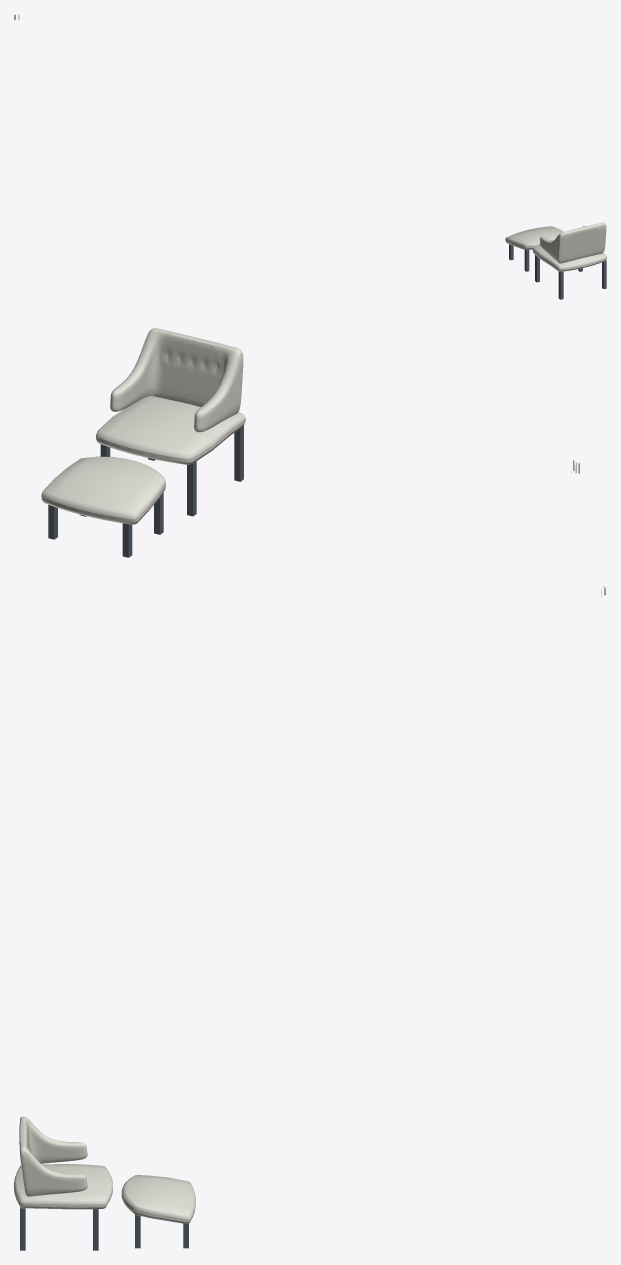
File: greenChair.glb
3 views of the same model, one above another, from view 1: azimuth 30°, elevation 25°; view 2: azimuth 150°, elevation 25°; view 3: azimuth 270°, elevation 25° (orthographic). The views are drawn at different scales.
Parts seen in each view (by area): view 1: Mesh186__ae3dd039_72c0_d148_b51a_0d4dce6b57bf__0, Mesh187__0627a712_e5a1_de4f_958c_aab64970bb5c__0; view 2: Mesh186__ae3dd039_72c0_d148_b51a_0d4dce6b57bf__0, Mesh187__0627a712_e5a1_de4f_958c_aab64970bb5c__0; view 3: Mesh186__ae3dd039_72c0_d148_b51a_0d4dce6b57bf__0, Mesh187__0627a712_e5a1_de4f_958c_aab64970bb5c__0.
Part boxes in pixels (box(x1,y1,x2,y2)): Mesh186__ae3dd039_72c0_d148_b51a_0d4dce6b57bf__0: box(505, 222, 606, 271); Mesh187__0627a712_e5a1_de4f_958c_aab64970bb5c__0: box(509, 244, 606, 299); Mesh186__ae3dd039_72c0_d148_b51a_0d4dce6b57bf__0: box(41, 328, 245, 524); Mesh187__0627a712_e5a1_de4f_958c_aab64970bb5c__0: box(48, 426, 243, 557); Mesh186__ae3dd039_72c0_d148_b51a_0d4dce6b57bf__0: box(14, 1116, 195, 1223); Mesh187__0627a712_e5a1_de4f_958c_aab64970bb5c__0: box(20, 1207, 188, 1250).
Bounding box in the file's own units: 218 × 120 × 179.
